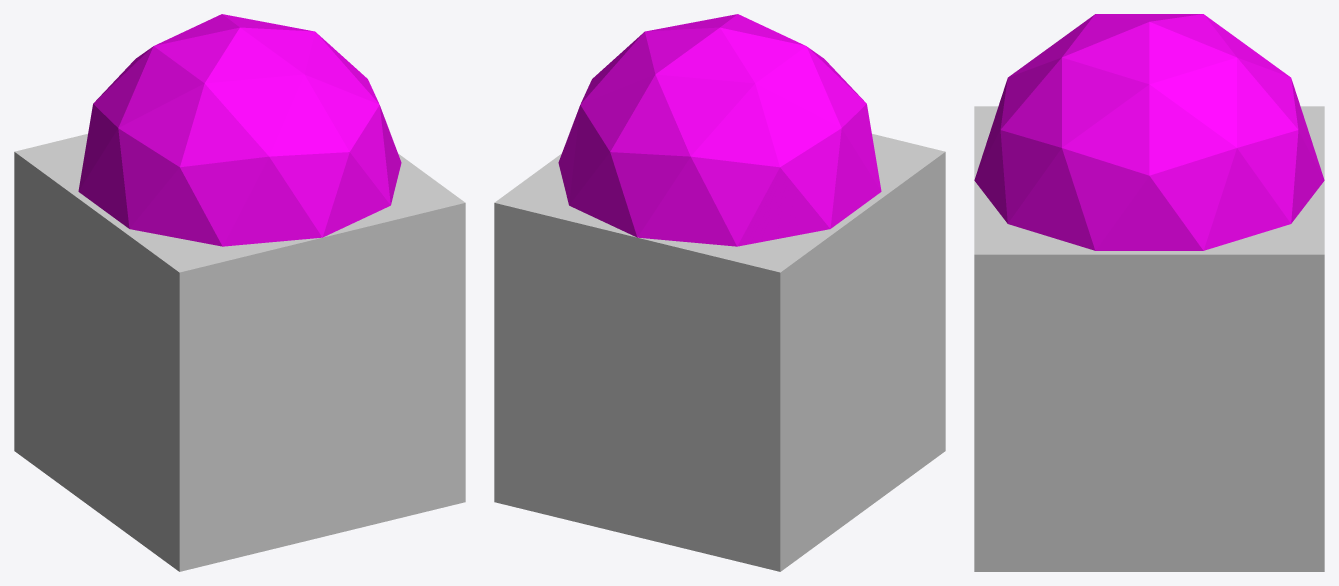
The model's file is MageCube.fbx.
3 renders of one model, left to right at view 1: azimuth 30°, elevation 25°; view 2: azimuth 150°, elevation 25°; view 3: azimuth 270°, elevation 25°, orthographic. The views are drawn at different scales.
Parts seen in each view (by area): view 1: Cube; view 2: Cube; view 3: Cube.
Part boxes in pixels (box(x1,y1,x2,y2)): Cube: box(14, 14, 465, 571); Cube: box(494, 14, 945, 571); Cube: box(974, 14, 1324, 571).
Bounding box in the file's own units: 1 × 1.5 × 1.
